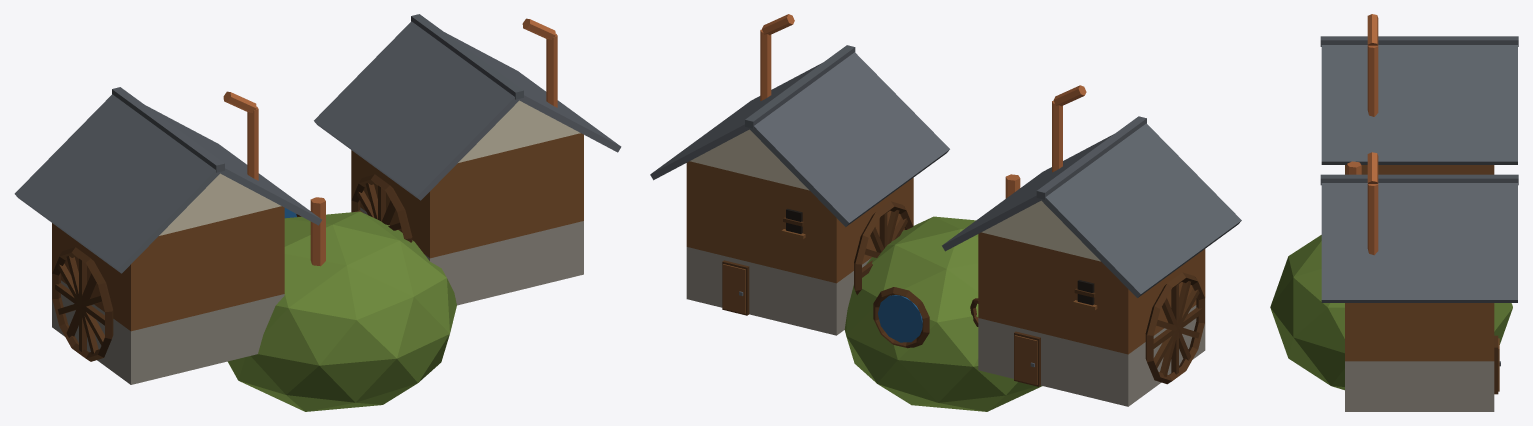
Rendered from gnome_row_broken.glb.
3 renders of one model, left to right at view 1: azimuth 30°, elevation 25°; view 2: azimuth 150°, elevation 25°; view 3: azimuth 270°, elevation 25°, orthographic. The views are drawn at different scales.
Parts seen in each view (by area): view 1: gnome_row_piece5, gnome_row_piece6, gnome_row_piece4, gnome_row_piece2, gnome_row_piece9, gnome_row_piece10, gnome_row_piece7, gnome_row_piece0, gnome_row_piece11, gnome_row_piece12, gnome_row_piece8, gnome_row_piece3 (+1 smaller); view 2: gnome_row_piece1, gnome_row_piece9, gnome_row_piece3, gnome_row_piece7, gnome_row_piece12, gnome_row_piece4, gnome_row_piece10, gnome_row_piece6, gnome_row_piece2, gnome_row_piece0, gnome_row_piece8, gnome_row_piece11; view 3: gnome_row_piece6, gnome_row_piece4, gnome_row_piece7, gnome_row_piece2, gnome_row_piece10, gnome_row_piece9, gnome_row_piece0, gnome_row_piece1, gnome_row_piece8, gnome_row_piece12, gnome_row_piece3, gnome_row_piece11 (+2 smaller).
Part boxes in pixels (x1,y1,x2,y2): gnome_row_piece5: [109, 204, 395, 400]; gnome_row_piece6: [436, 45, 621, 304]; gnome_row_piece4: [80, 91, 304, 368]; gnome_row_piece2: [289, 132, 459, 374]; gnome_row_piece9: [14, 87, 246, 353]; gnome_row_piece10: [60, 109, 261, 336]; gnome_row_piece7: [358, 18, 544, 185]; gnome_row_piece0: [370, 20, 557, 213]; gnome_row_piece11: [227, 321, 428, 411]; gnome_row_piece12: [314, 14, 516, 199]; gnome_row_piece8: [243, 18, 503, 165]; gnome_row_piece3: [258, 104, 379, 247]; gnome_row_piece1: [831, 204, 1145, 406]; gnome_row_piece9: [968, 169, 1185, 393]; gnome_row_piece3: [758, 165, 1025, 402]; gnome_row_piece7: [652, 14, 903, 276]; gnome_row_piece12: [650, 115, 869, 291]; gnome_row_piece4: [1005, 85, 1241, 374]; gnome_row_piece10: [977, 140, 1212, 350]; gnome_row_piece6: [686, 45, 909, 325]; gnome_row_piece2: [796, 108, 1069, 393]; gnome_row_piece0: [679, 14, 918, 289]; gnome_row_piece8: [677, 100, 976, 230]; gnome_row_piece11: [892, 380, 1042, 411]; gnome_row_piece6: [1320, 174, 1500, 411]; gnome_row_piece4: [1320, 14, 1432, 174]; gnome_row_piece7: [1371, 152, 1517, 345]; gnome_row_piece2: [1280, 125, 1359, 390]; gnome_row_piece10: [1382, 36, 1462, 174]; gnome_row_piece9: [1455, 36, 1518, 174]; gnome_row_piece0: [1356, 153, 1499, 358]; gnome_row_piece1: [1464, 65, 1517, 344]; gnome_row_piece8: [1449, 154, 1508, 279]; gnome_row_piece12: [1505, 174, 1518, 302]; gnome_row_piece3: [1365, 143, 1498, 338]; gnome_row_piece11: [1270, 282, 1305, 369].
Size of the model in its own units: 3.83 by 2.49 by 1.73.
